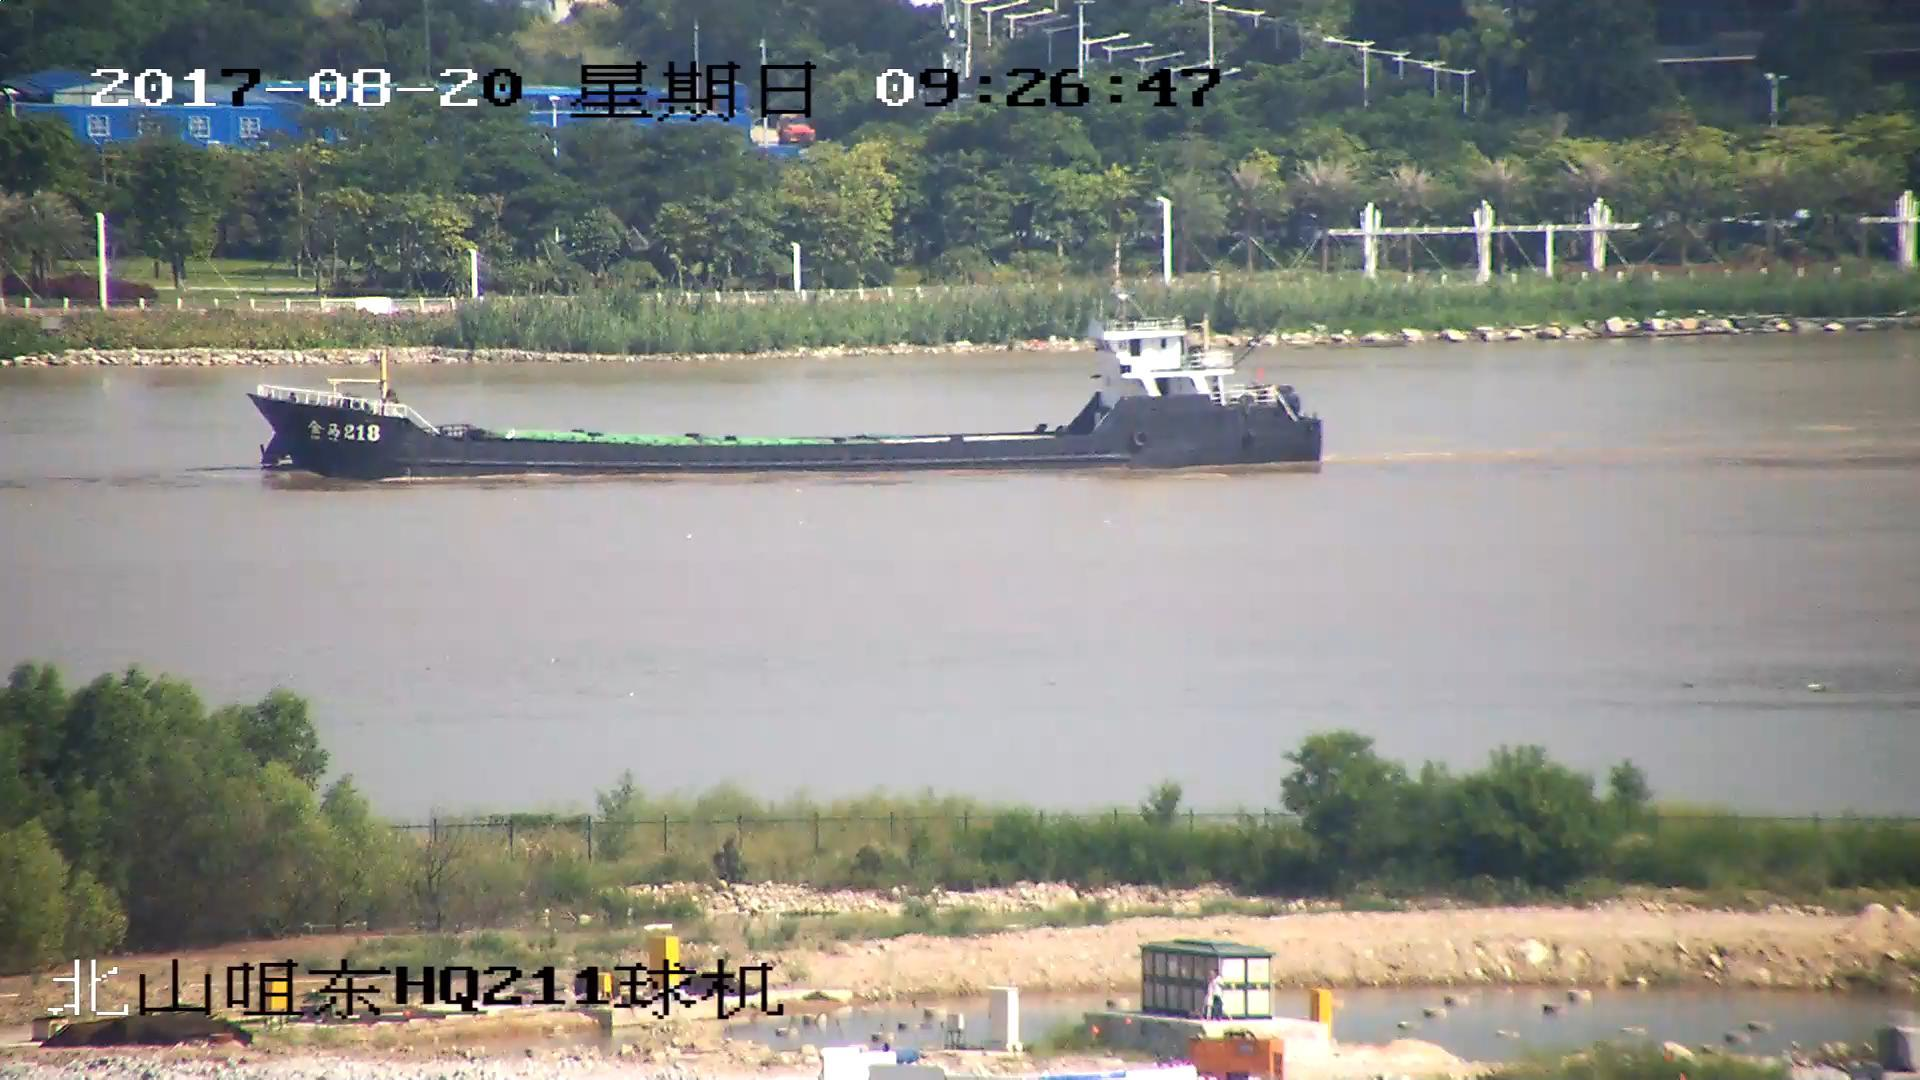Ship: (244, 309, 1320, 475)
